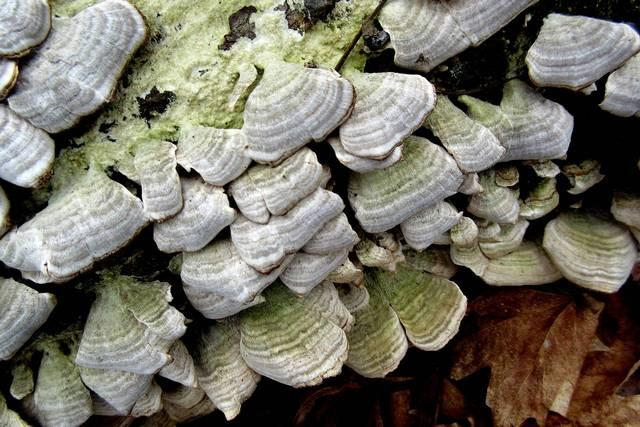poisonous_mushroom: (1, 1, 637, 424), (4, 0, 147, 134), (240, 58, 356, 163)
